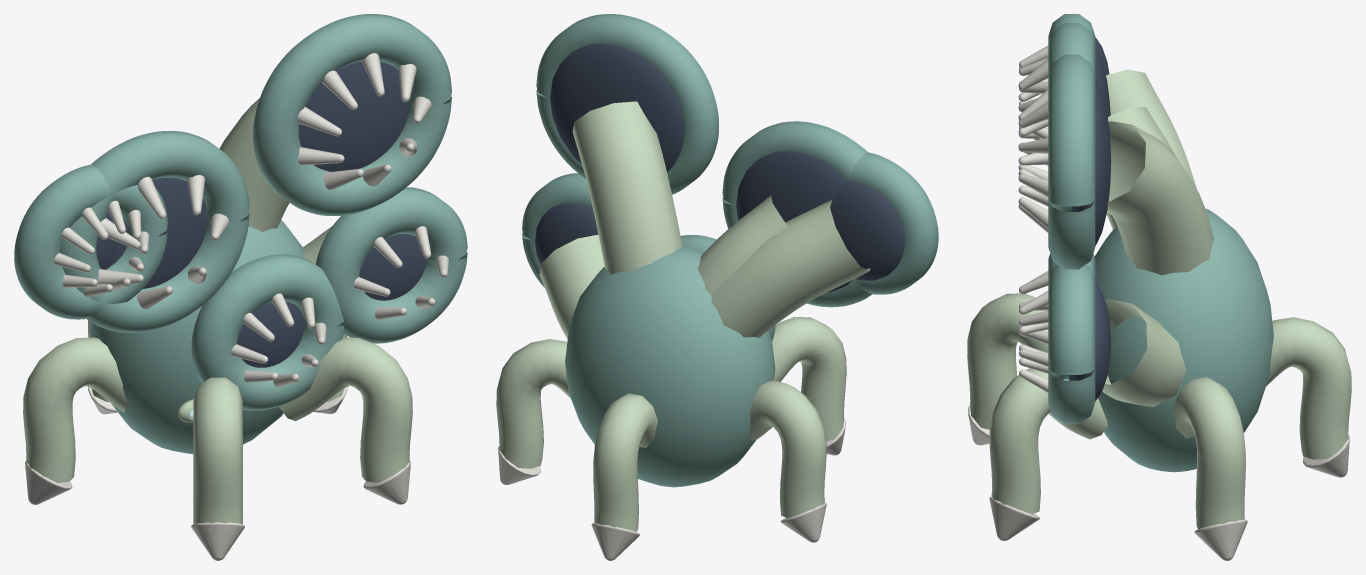
Rendered from bio_manymouth_03_near.glb.
3 renders of one model, left to right at view 1: azimuth 30°, elevation 25°; view 2: azimuth 150°, elevation 25°; view 3: azimuth 270°, elevation 25°, orthographic. The views are drawn at different scales.
Visible parts, largest first — view 1: Raised oral lip.003, Raised oral lip.001, Raised oral lip, Raised oral lip.002, Central branching knot, Raised oral lip.004, Crooked support.004, Crooked support.002, Recessed mouth cavity.003, Crooked support.003, Inward tooth.021, Recessed mouth cavity.001 (+11 smaller); view 2: Central branching knot, Bent oral neck.003, Bent oral neck.004, Raised oral lip.003, Recessed mouth cavity.003, Crooked support.002, Crooked support.001, Crooked support, Raised oral lip.001, Raised oral lip.004, Crooked support.003, Recessed mouth cavity.001 (+8 smaller); view 3: Central branching knot, Bent oral neck.003, Raised oral lip.003, Crooked support.001, Crooked support, Crooked support.004, Raised oral lip, Crooked support.003, Bent oral neck, Inward tooth.021, Bent oral neck.004, Recessed mouth cavity.003 (+11 smaller).
Part boxes in pixels (x1,y1,x2,y2): Raised oral lip.003: (253, 14, 451, 215); Raised oral lip.001: (60, 131, 249, 332); Raised oral lip: (315, 187, 467, 343); Raised oral lip.002: (191, 254, 344, 410); Central branching knot: (90, 220, 304, 454); Raised oral lip.004: (14, 164, 167, 319); Crooked support.004: (279, 337, 412, 482); Crooked support.002: (23, 337, 128, 482); Recessed mouth cavity.003: (299, 61, 409, 171); Crooked support.003: (193, 377, 242, 530); Inward tooth.021: (297, 53, 431, 189); Recessed mouth cavity.001: (111, 177, 207, 288); Central branching knot: (565, 246, 775, 487); Bent oral neck.003: (572, 101, 682, 274); Bent oral neck.004: (711, 200, 870, 337); Raised oral lip.003: (536, 14, 718, 194); Recessed mouth cavity.003: (550, 44, 684, 171); Crooked support.002: (749, 380, 826, 518); Crooked support.001: (593, 393, 657, 534); Crooked support: (496, 339, 570, 468); Raised oral lip.001: (722, 121, 871, 307); Raised oral lip.004: (846, 152, 938, 294); Crooked support.003: (772, 317, 846, 441); Recessed mouth cavity.001: (736, 151, 852, 292); Central branching knot: (1094, 208, 1273, 472); Bent oral neck.003: (1107, 121, 1213, 275); Raised oral lip.003: (1048, 54, 1095, 269); Crooked support.001: (1266, 317, 1351, 459); Crooked support: (1173, 377, 1245, 531); Crooked support.004: (989, 368, 1107, 514); Raised oral lip: (1048, 264, 1095, 424); Crooked support.003: (967, 293, 1048, 429); Bent oral neck: (1102, 299, 1186, 406); Inward tooth.021: (1018, 89, 1048, 232); Bent oral neck.004: (1106, 69, 1196, 188); Recessed mouth cavity.003: (1071, 78, 1111, 245).
Bounding box in the file's own units: 1.98 × 1.97 × 1.47.
